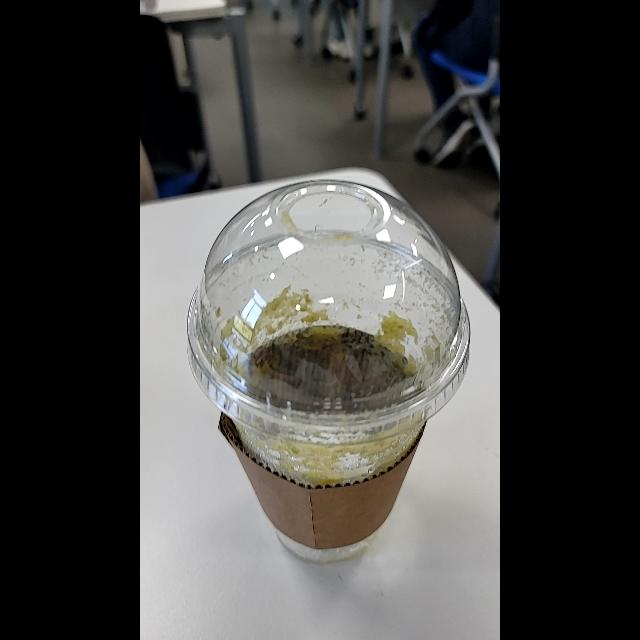plastic_cup: (181, 177, 473, 571)
plastic_cup_lid: (184, 178, 470, 442)
